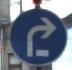turn: (7, 7, 66, 64)
